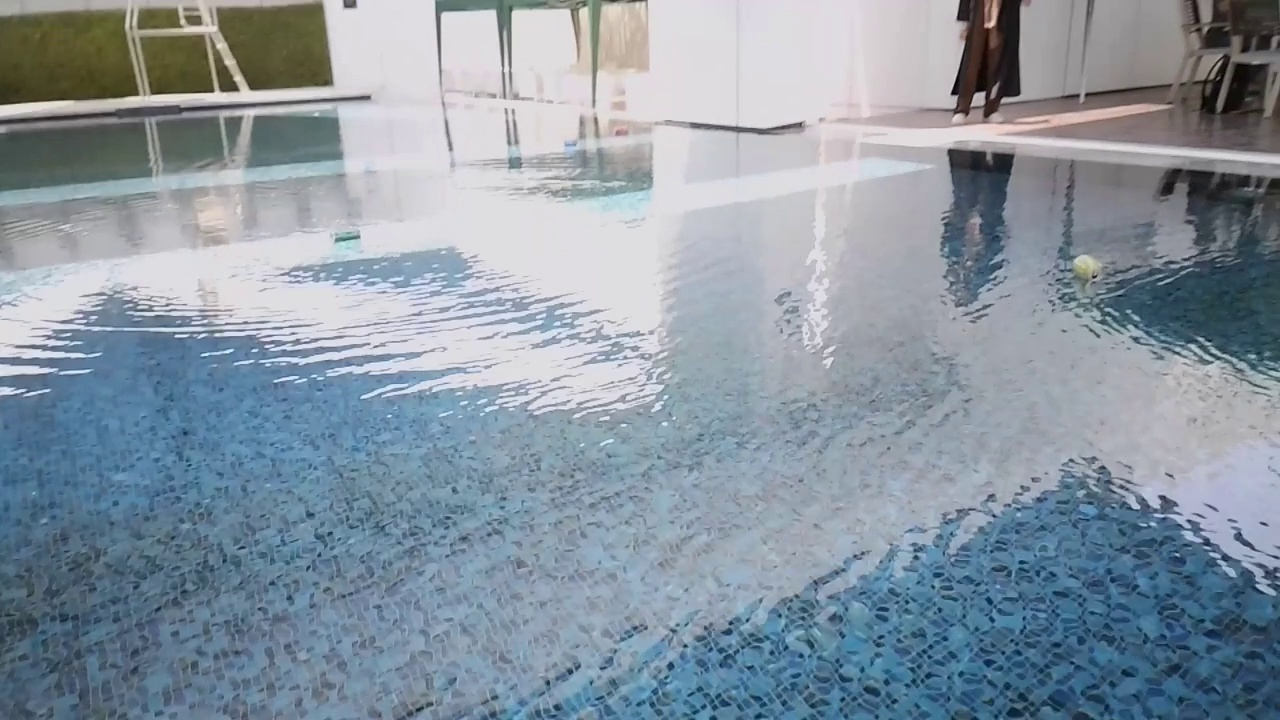debris: (1068, 250, 1108, 287), (325, 221, 365, 248), (558, 134, 582, 151), (610, 125, 632, 139)
